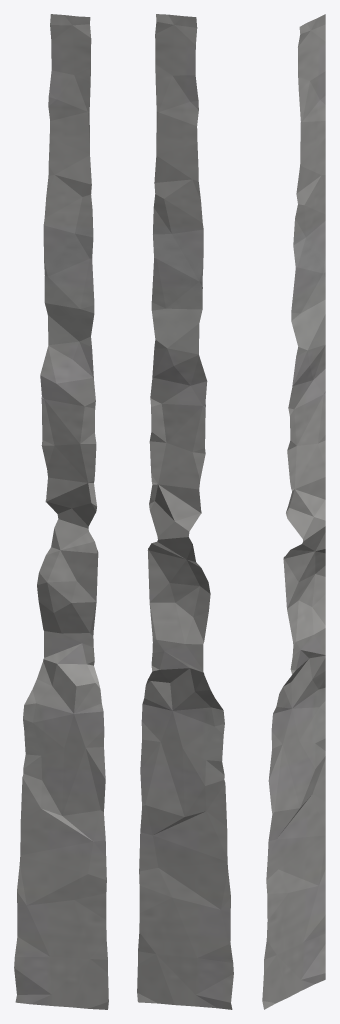
3 renders of one model, left to right at view 1: azimuth 30°, elevation 25°; view 2: azimuth 210°, elevation 25°; view 3: azimuth 270°, elevation 25°, orthographic. The views are drawn at different scales.
Bounding box in the file's own units: 0.0565 × 0.8373 × 0.0489.
1 material, 1 textured.
